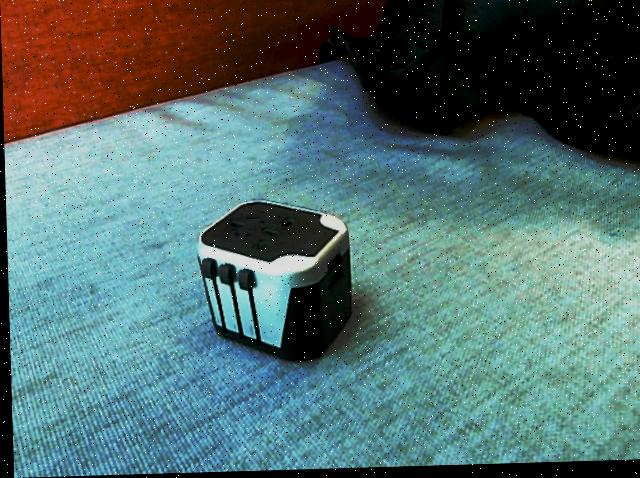adapter: (194, 199, 352, 367)
